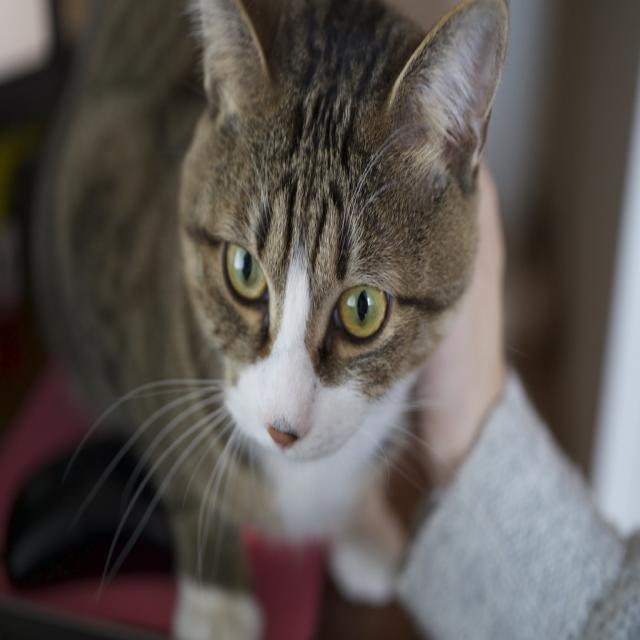Cat: (31, 0, 510, 638)
